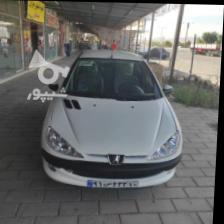plate: (88, 178, 140, 187)
